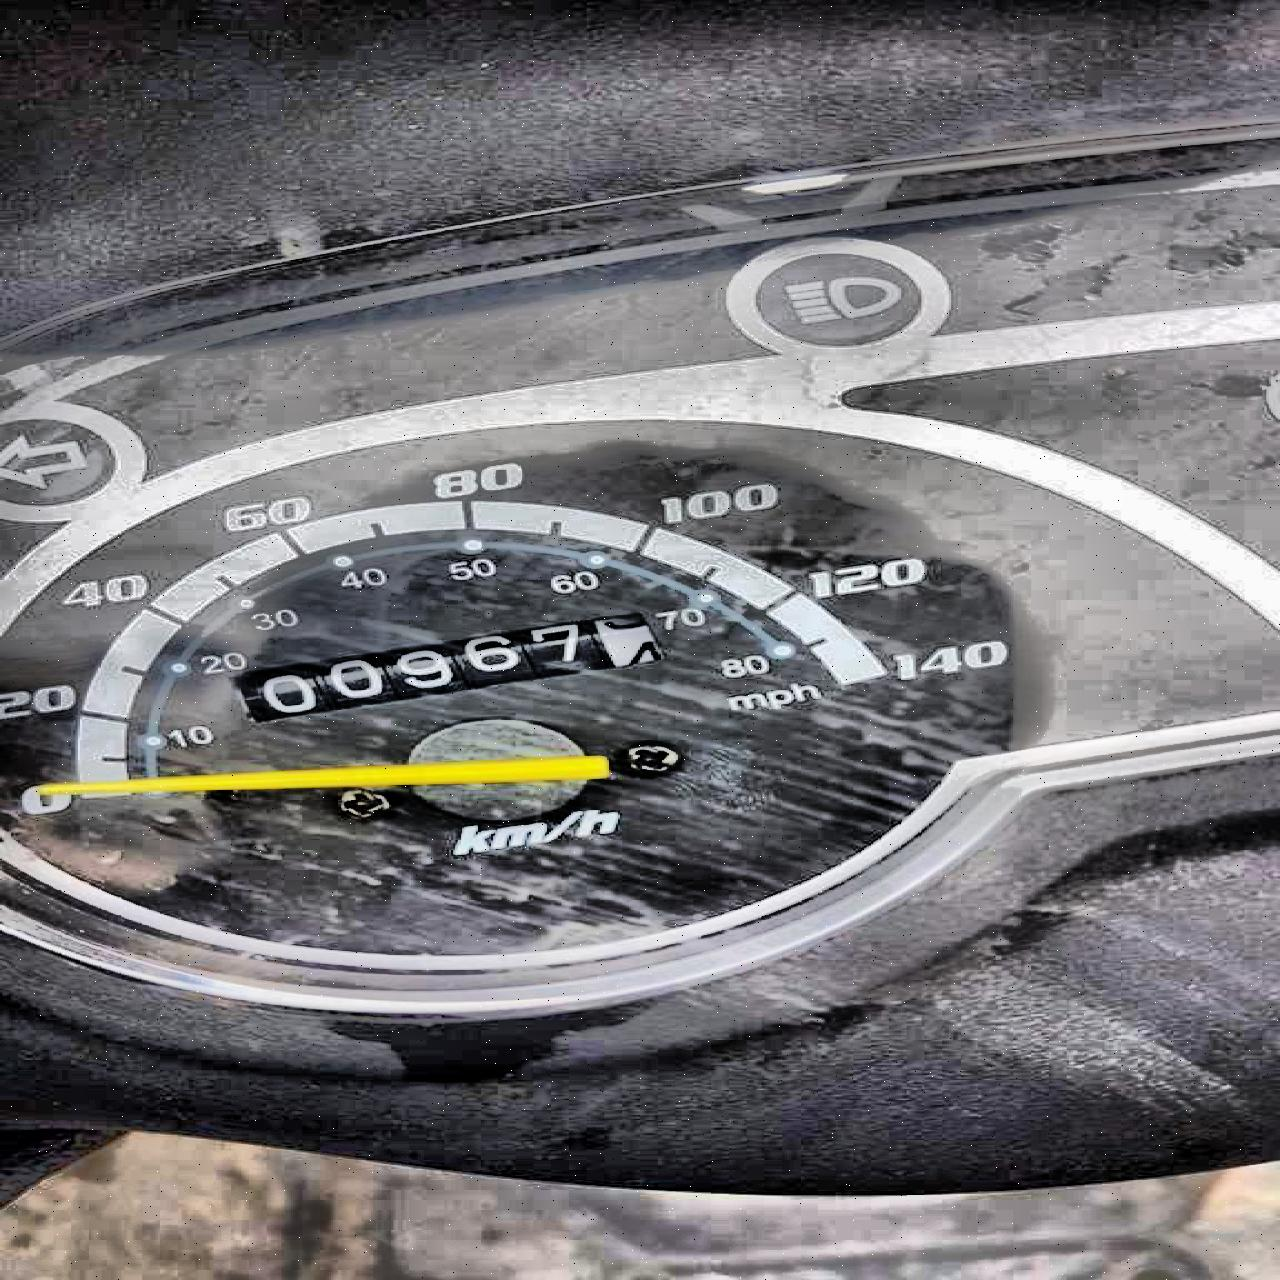0: (325, 656, 387, 697), (258, 675, 318, 714), (273, 606, 298, 628), (223, 651, 247, 670)
3: (248, 611, 275, 629)
4: (618, 638, 667, 674)
6: (463, 633, 524, 673)
7: (526, 624, 585, 660), (653, 607, 678, 631)
9: (392, 649, 458, 690)
odometer: (222, 605, 682, 726)
